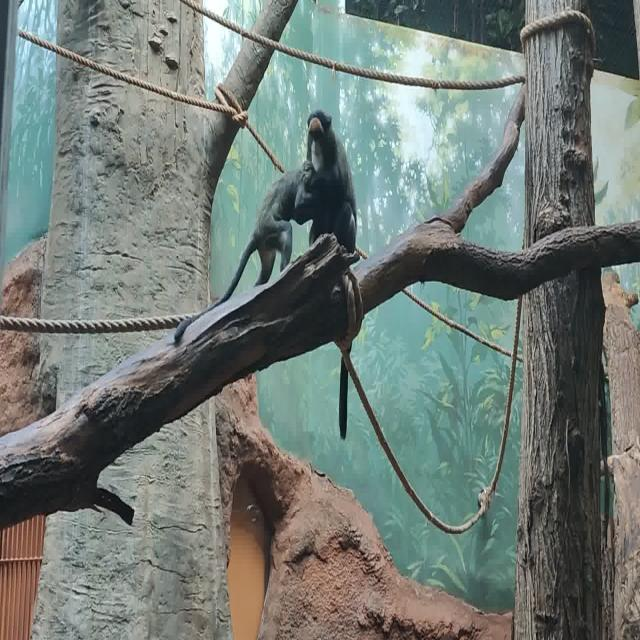monkey: (173, 160, 314, 342), (307, 109, 357, 255)
